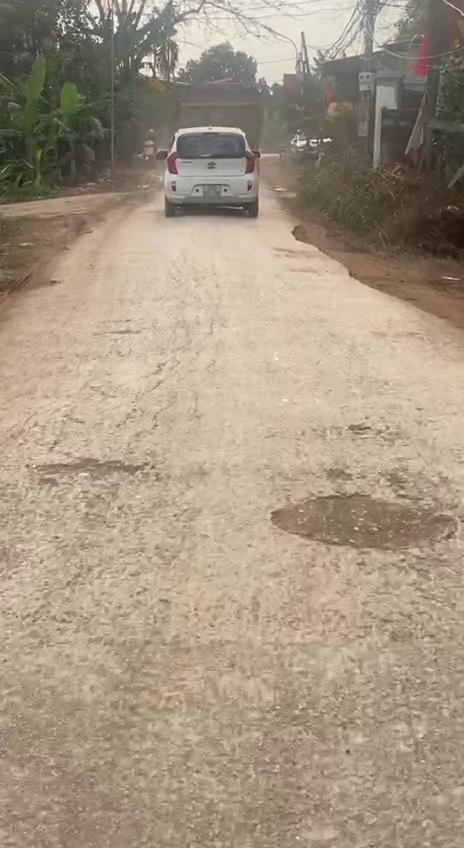pothole: (268, 489, 464, 556), (34, 454, 145, 490)
